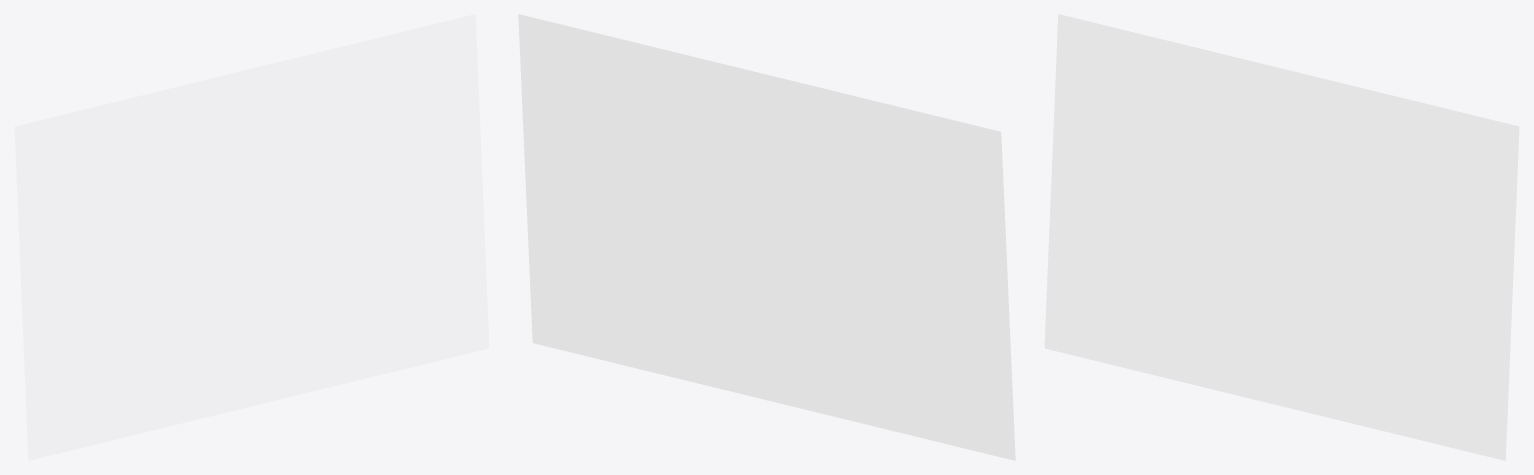
The picture shows the model from 3 angles, left to right: view 1: azimuth 30°, elevation 25°; view 2: azimuth 150°, elevation 25°; view 3: azimuth 330°, elevation 25°; orthographic projection. The views are drawn at different scales.
Bounding box in the file's own units: 4.87 × 3.27 × 0.252.
1 material, 1 textured.
